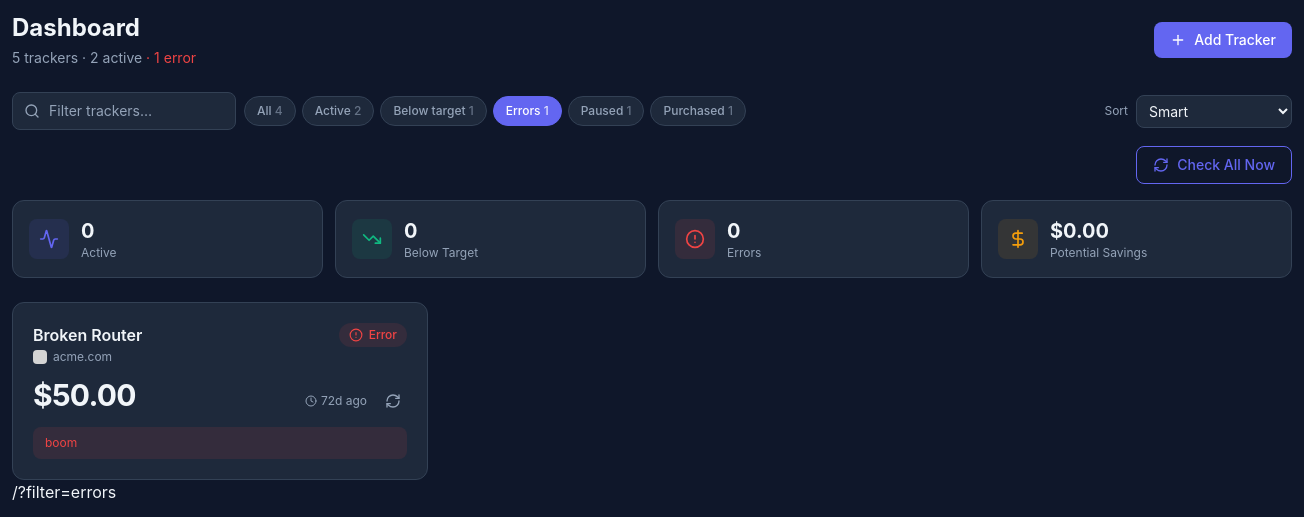
Test: Dashboard › toolbar › filter state syncs to URL and back
This screenshot has width=1304, height=517.
Expected: the heading "Dashboard" is shown, [12,13,140,42]
Click the button "Paused 1" at (606, 111), box [568,96,644,126]
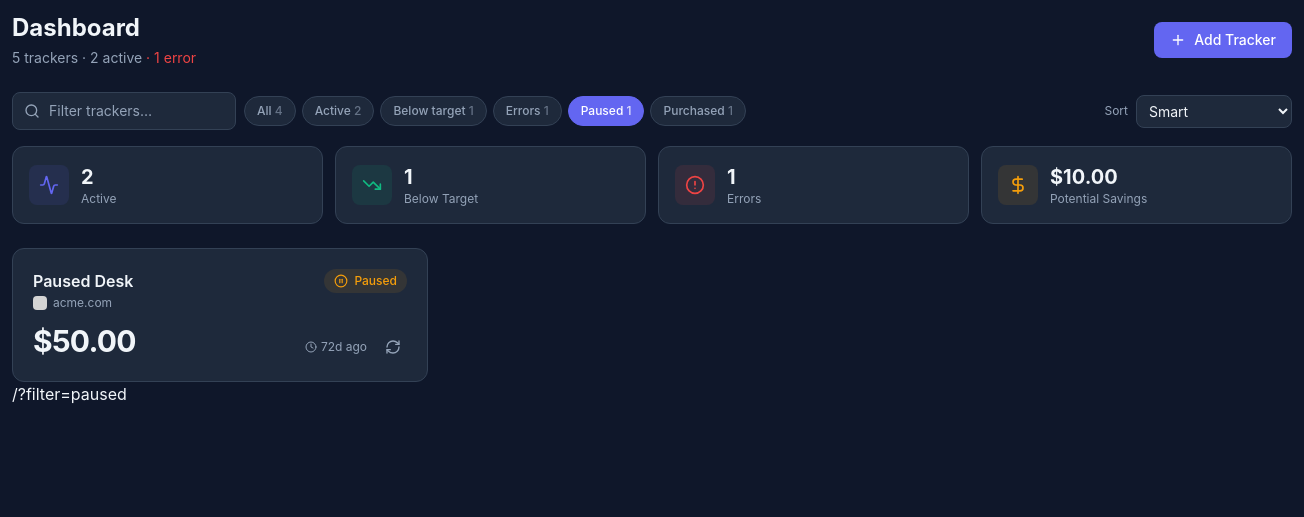
Expected: the text with test id "location-probe" shows "filter=paused", [18,384,127,404]
